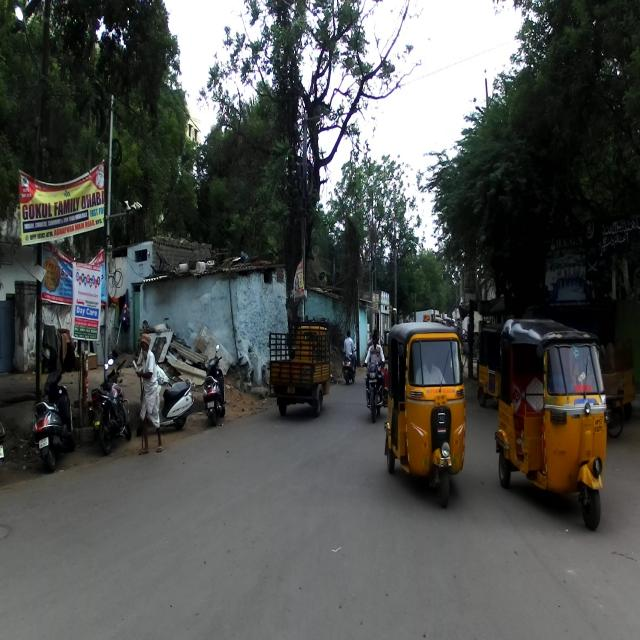autorickshaw: (493, 317, 608, 532), (384, 321, 470, 508), (562, 303, 635, 418), (267, 321, 331, 415)
motorcycle: (88, 356, 132, 454)
motorcycle_Honda: (362, 359, 388, 426)
scooter: (32, 356, 74, 472), (136, 362, 193, 436)
